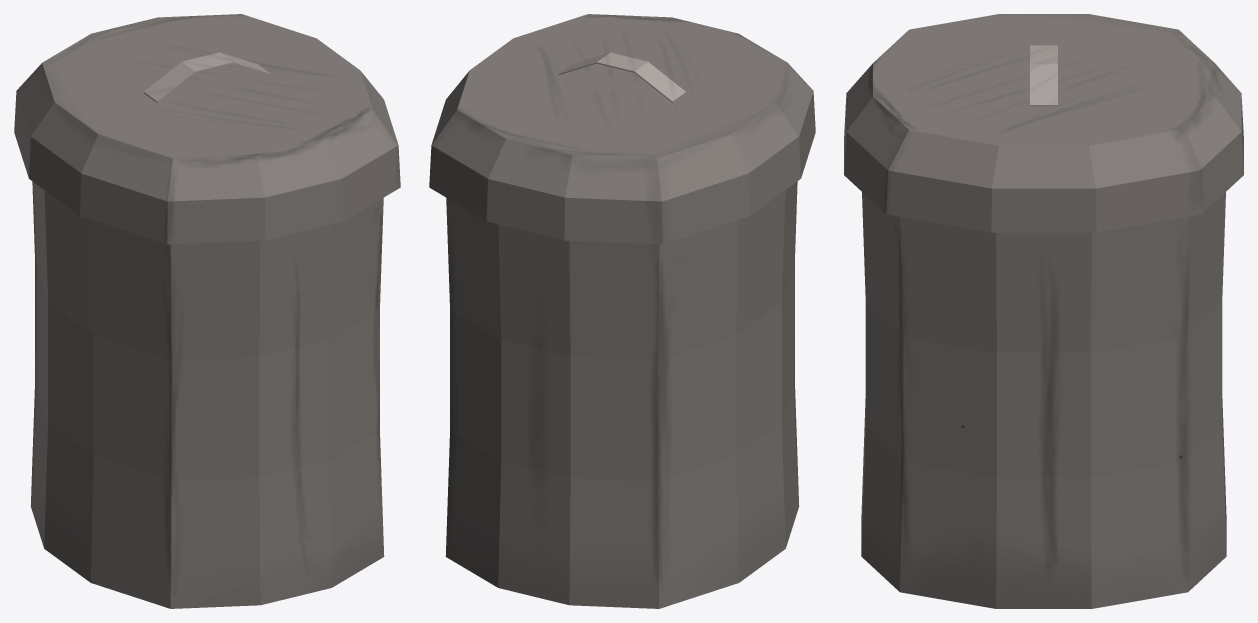
The model's file is Bin_Medium.fbx.
3 renders of one model, left to right at view 1: azimuth 30°, elevation 25°; view 2: azimuth 150°, elevation 25°; view 3: azimuth 270°, elevation 25°, orthographic. The views are drawn at different scales.
Visible parts, largest first — view 1: Cube.007; view 2: Cube.007; view 3: Cube.007.
Part boxes in pixels (x1,y1,x2,y2): Cube.007: [14, 14, 400, 608]; Cube.007: [429, 14, 815, 608]; Cube.007: [844, 14, 1243, 608].
Size of the model in its own units: 75.21 by 110 by 82.54.
